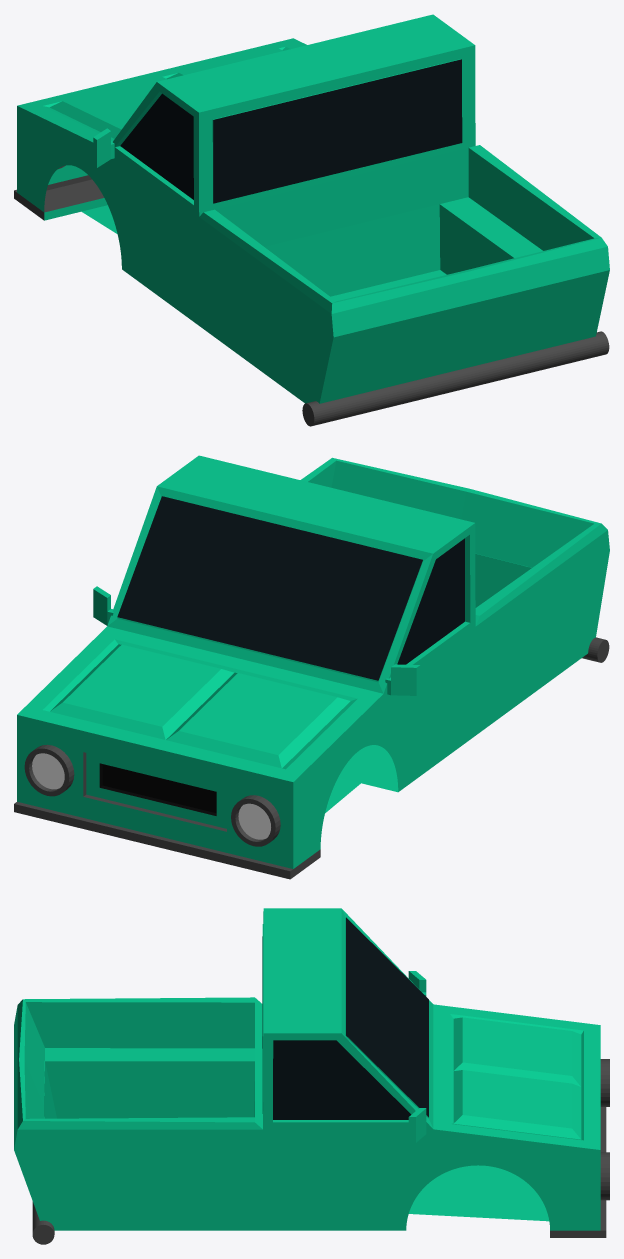
File: pickup.obj
The picture shows the model from 3 angles, top to bottom: view 1: azimuth 30°, elevation 25°; view 2: azimuth 150°, elevation 25°; view 3: azimuth 270°, elevation 25°; orthographic projection. The views are drawn at different scales.
Visible parts, largest first — view 1: body_Cube.001, window_Cube.003, bumper_Cube.002; view 2: body_Cube.001, window_Cube.003, headlights_Cylinder.002; view 3: body_Cube.001, window_Cube.003, headlights_Cylinder.002, bumper_Cube.002.
Boxes of the visible parts, x1=… form: body_Cube.001: x1=14, y1=14, x2=609, y2=403; window_Cube.003: x1=120, y1=59, x2=462, y2=203; bumper_Cube.002: x1=302, y1=331, x2=609, y2=426; body_Cube.001: x1=14, y1=455, x2=609, y2=879; window_Cube.003: x1=117, y1=496, x2=464, y2=680; headlights_Cylinder.002: x1=24, y1=744, x2=280, y2=846; body_Cube.001: x1=14, y1=908, x2=606, y2=1237; window_Cube.003: x1=262, y1=917, x2=428, y2=1119; headlights_Cylinder.002: x1=600, y1=1059, x2=609, y2=1200; bumper_Cube.002: x1=32, y1=1201, x2=54, y2=1244.
Bounding box in the file's own units: 1.24 × 0.8214 × 2.14.
